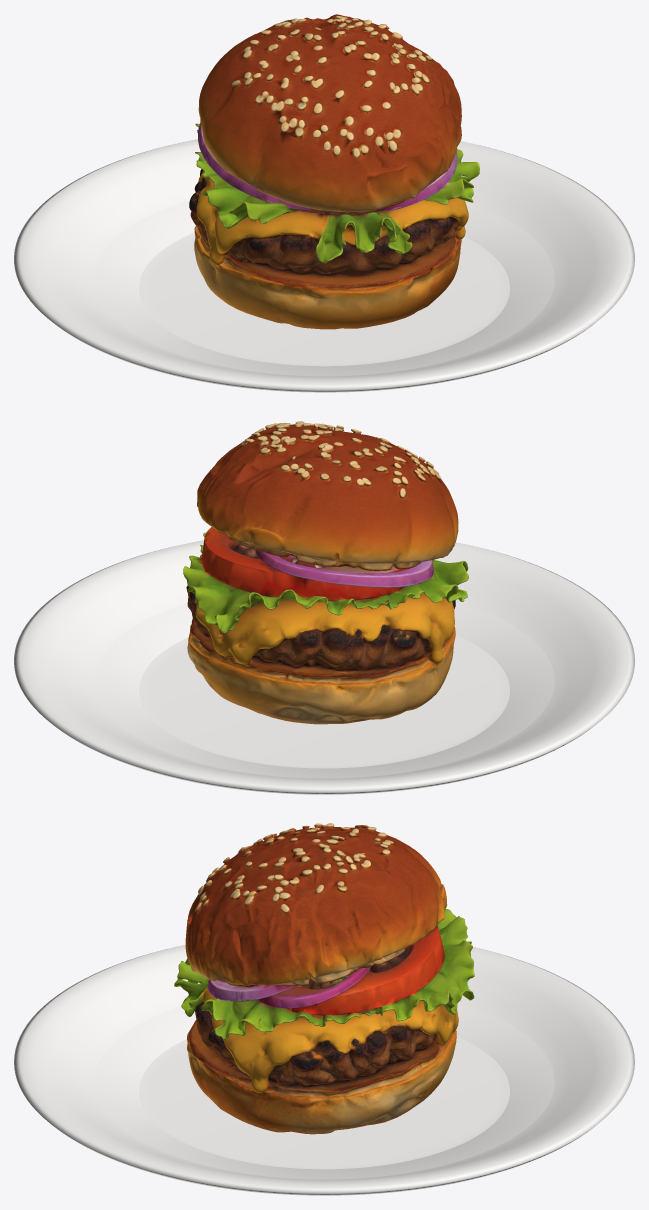
File: burger-3d.glb
The picture shows the model from 3 angles, top to bottom: view 1: azimuth 30°, elevation 25°; view 2: azimuth 150°, elevation 25°; view 3: azimuth 270°, elevation 25°; orthographic projection.
Visible parts, largest first — view 1: prato, tripo_node_e6b908e3-85bb-41d2-8663-56fac0bdde07; view 2: prato, tripo_node_e6b908e3-85bb-41d2-8663-56fac0bdde07; view 3: prato, tripo_node_e6b908e3-85bb-41d2-8663-56fac0bdde07.
Part boxes in pixels (x1=…): prato: x1=14, y1=139, x2=634, y2=392; tripo_node_e6b908e3-85bb-41d2-8663-56fac0bdde07: x1=189, y1=14, x2=479, y2=329; prato: x1=14, y1=540, x2=634, y2=794; tripo_node_e6b908e3-85bb-41d2-8663-56fac0bdde07: x1=183, y1=421, x2=468, y2=724; prato: x1=14, y1=945, x2=634, y2=1195; tripo_node_e6b908e3-85bb-41d2-8663-56fac0bdde07: x1=174, y1=823, x2=474, y2=1134.
Bounding box in the file's own units: 0.248 × 0.1164 × 0.248.
Materials: 2 (1 with a texture image).
